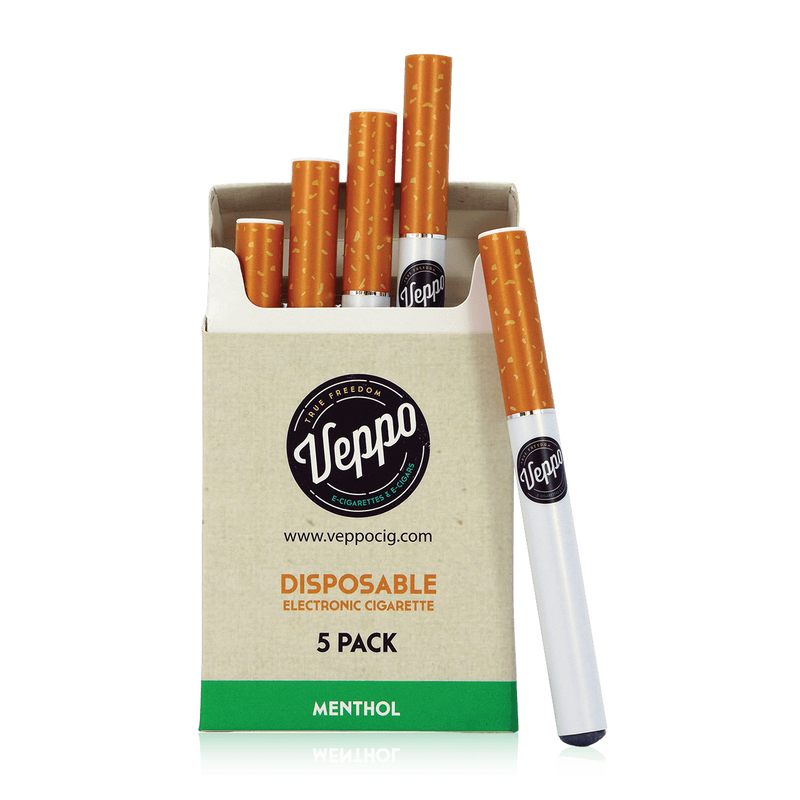cigarette: (468, 226, 621, 754)
